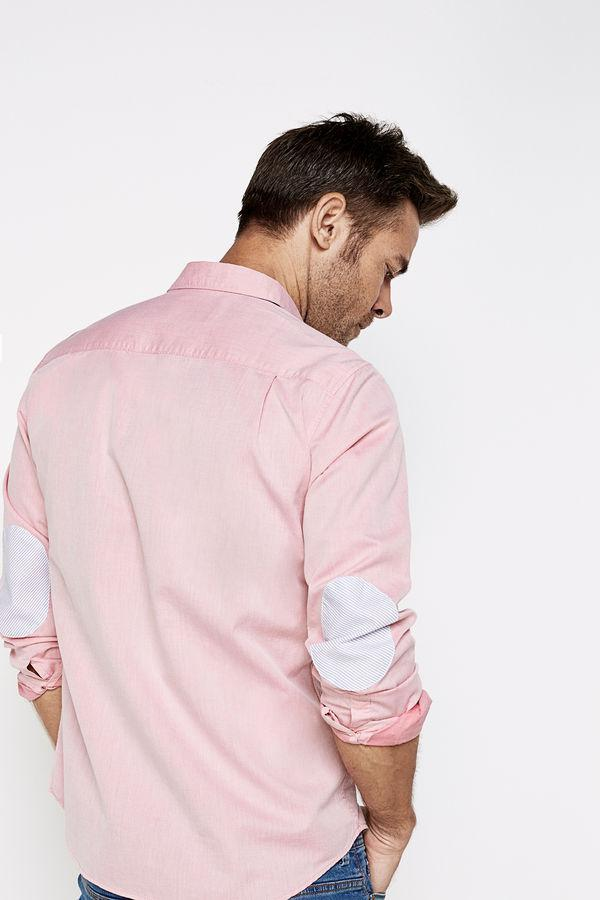teeshirt: (1, 263, 434, 900)
